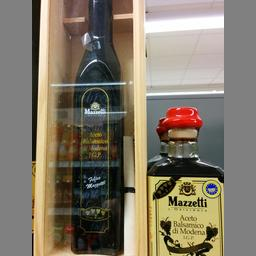vinegar: (62, 0, 126, 255), (145, 106, 224, 255)
